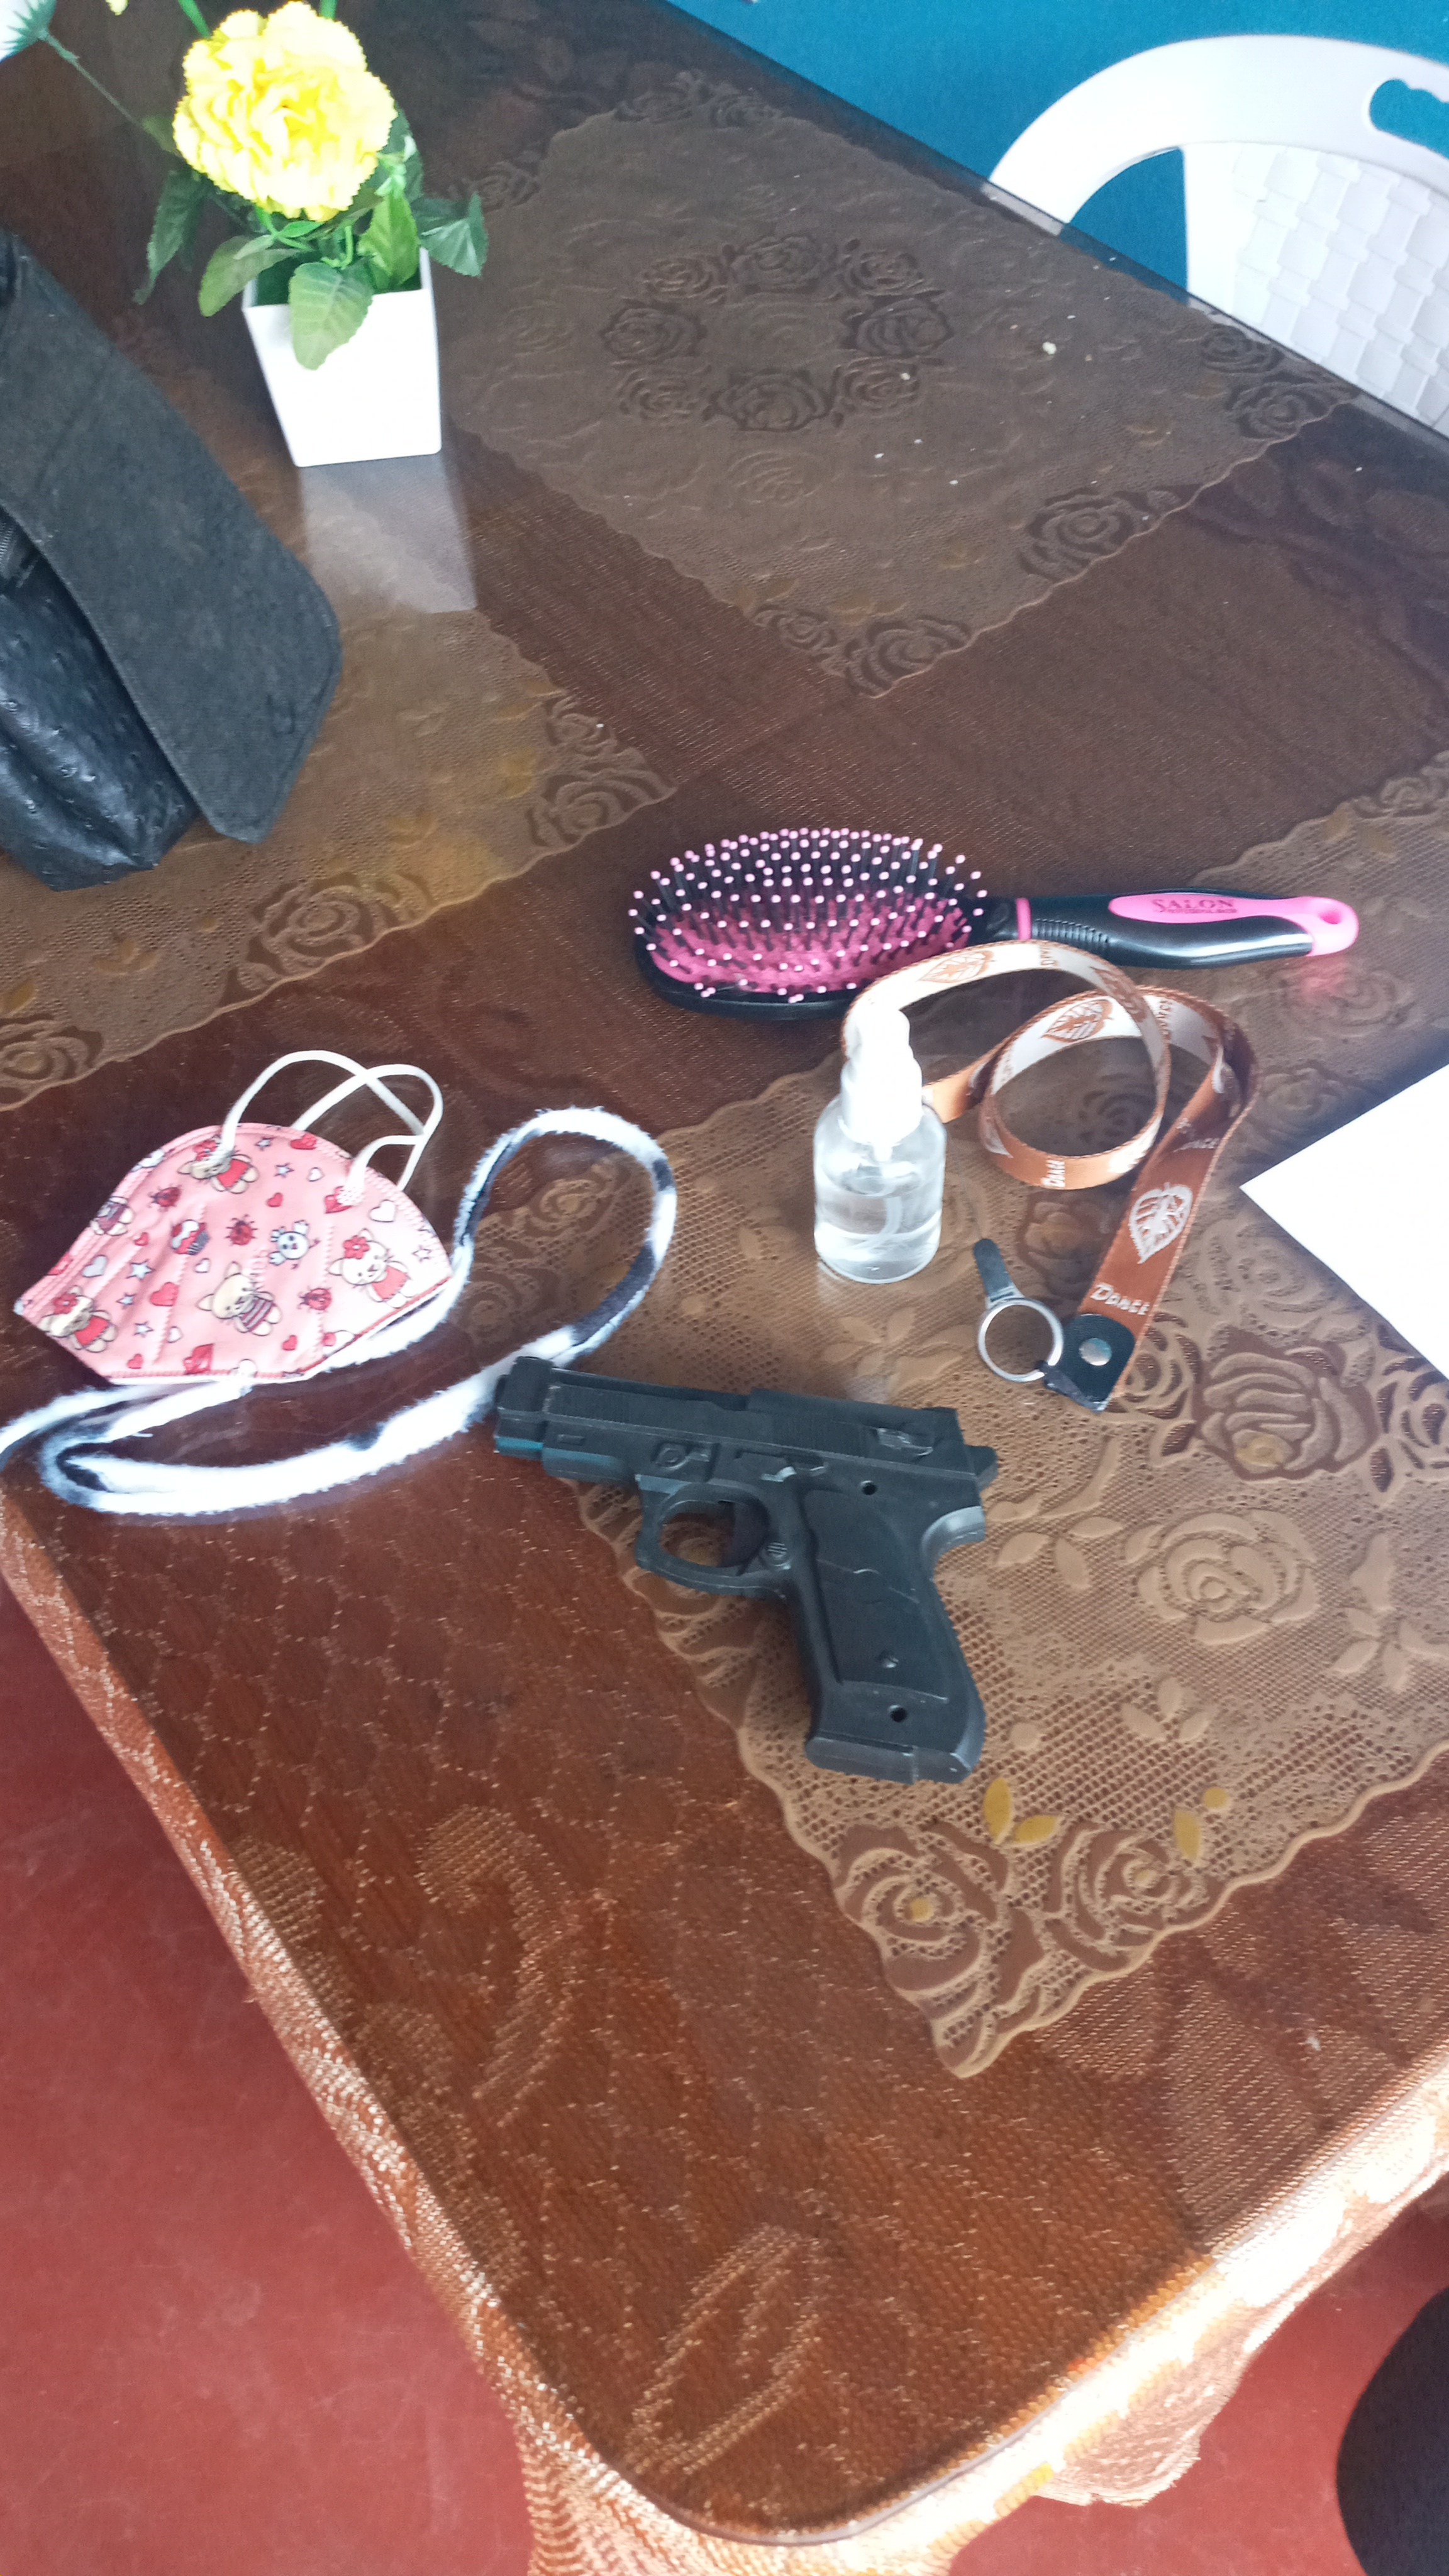Arma: (506, 1359, 1010, 1645)
